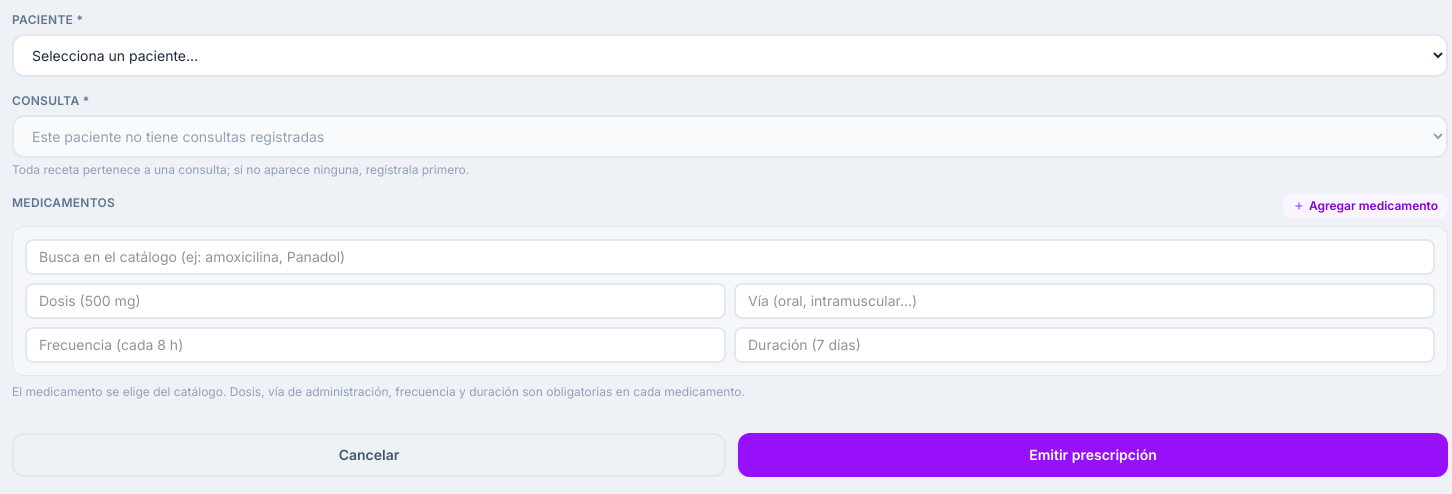
Test: PrescriptionForm · la consulta de la que cuelga la receta › muestra el error de carga de consultas con el motivo del backend
This screenshot has width=1452, height=494.
Select "Ana María Ramírez (EXP-0042)" in the dropdown labelled "Paciente *": (730, 56) [12,34,1448,77]
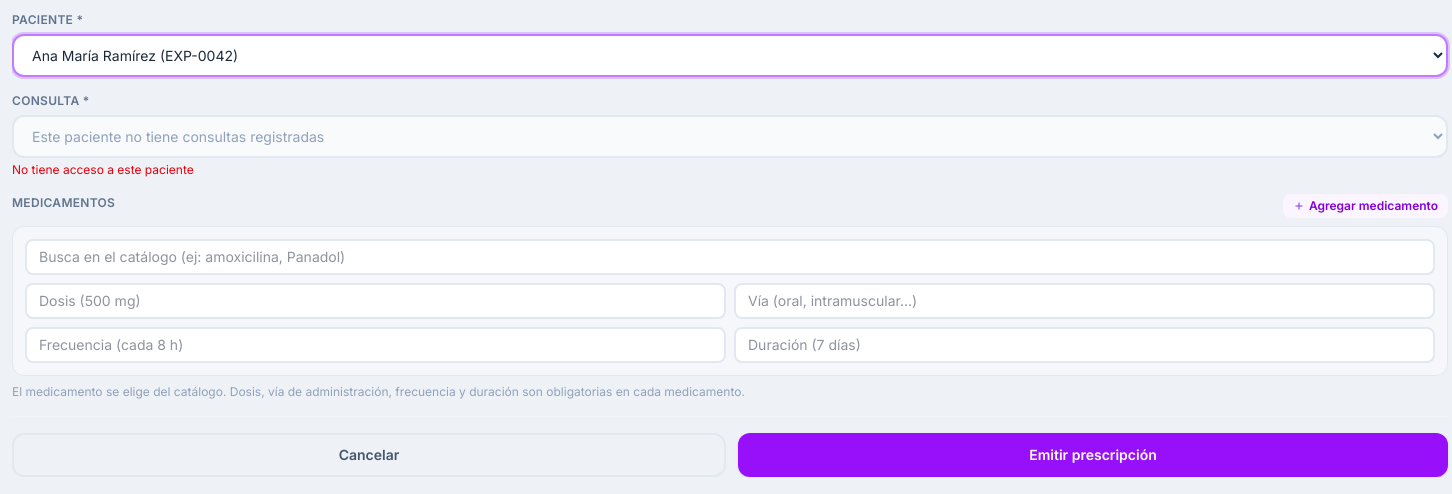
expect the message reads "No tiene acceso a este paciente": met, box [12,162,194,177]
